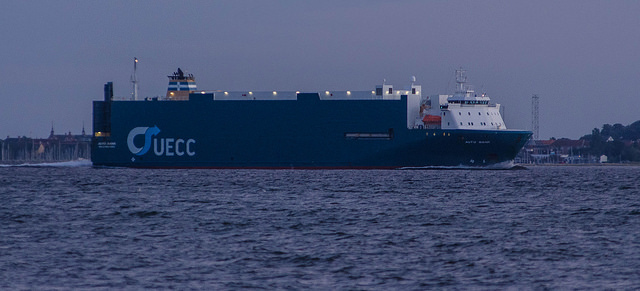PCC: (93, 66, 547, 171)
